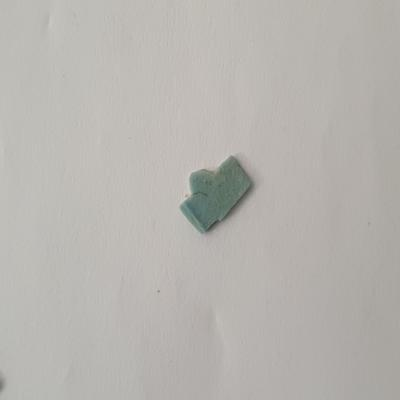plastic: (177, 151, 257, 234)
